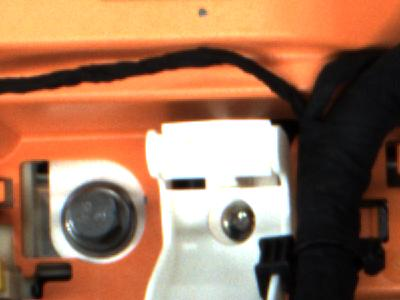nut_b: (57, 177, 139, 254)
